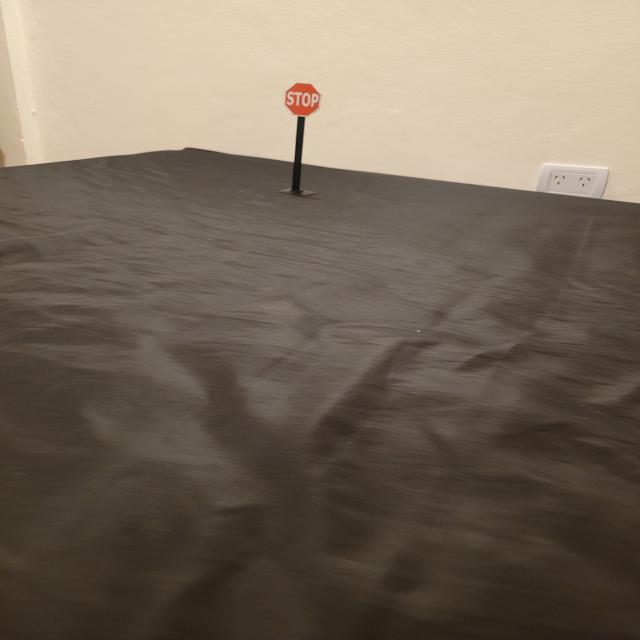stop: (284, 82, 322, 118)
